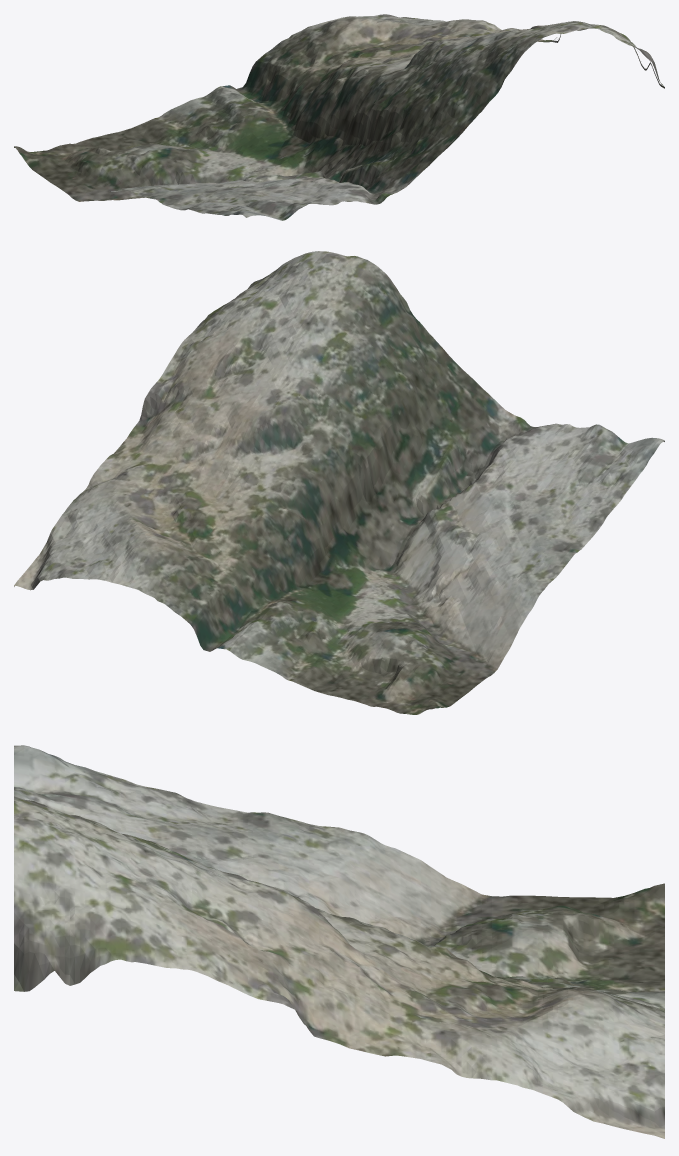
3 views of the same model, one above another, from view 1: azimuth 30°, elevation 25°; view 2: azimuth 150°, elevation 25°; view 3: azimuth 270°, elevation 25° (orthographic). The views are drawn at different scales.
Size of the model in its own units: 250 by 127 by 241.
1 material, 1 textured.
